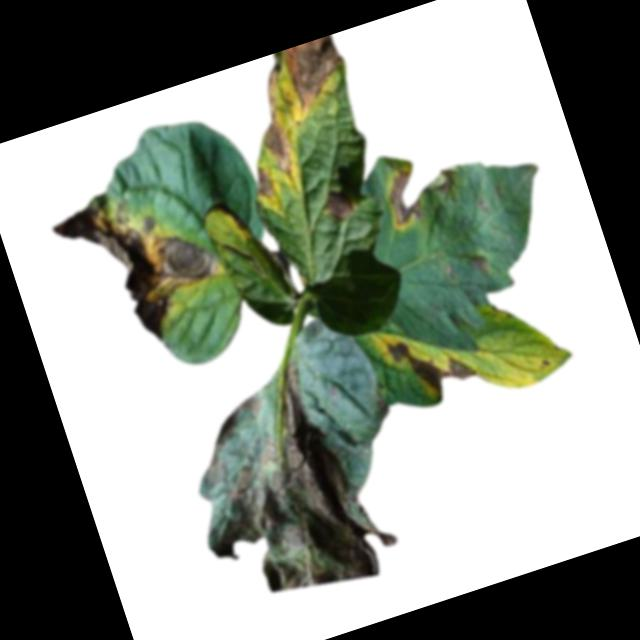Early_blight: (155, 344, 406, 626), (44, 169, 234, 365), (233, 34, 372, 178), (382, 315, 479, 407), (375, 148, 465, 232), (317, 184, 357, 227), (248, 163, 277, 203), (467, 251, 492, 276), (372, 394, 395, 421)
